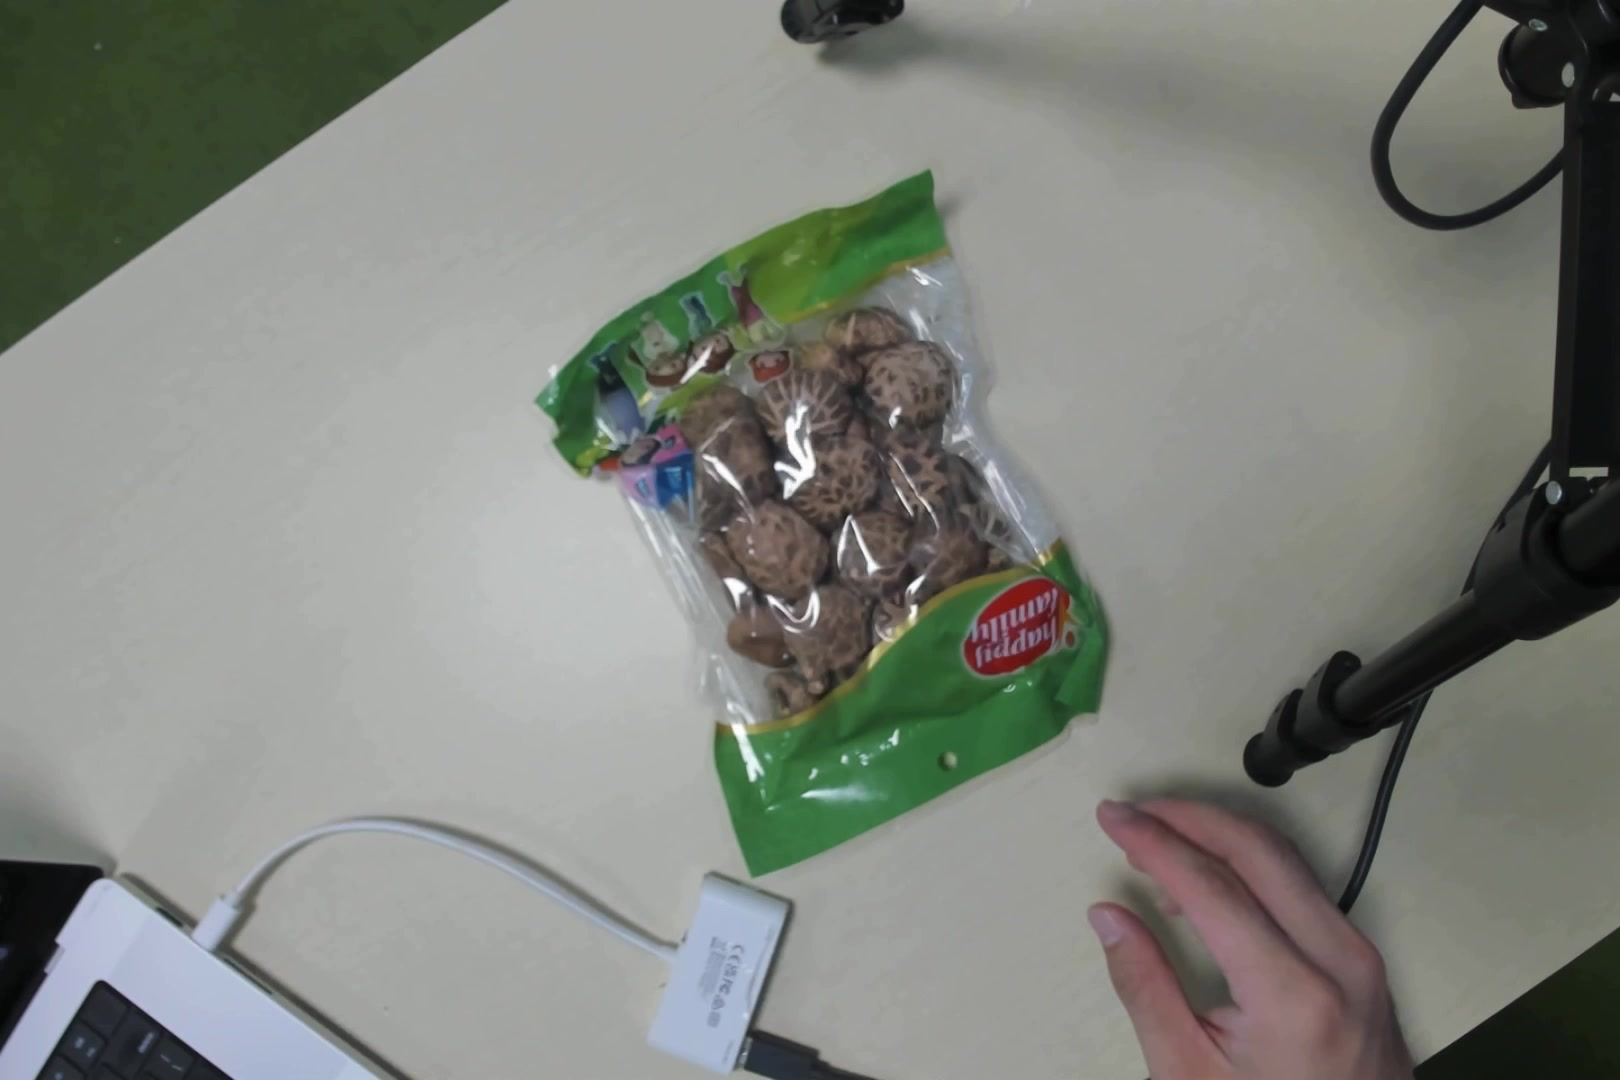OtherDriedFood_100-199g_NonHalal_NonHealthy: (604, 231, 1067, 797)
